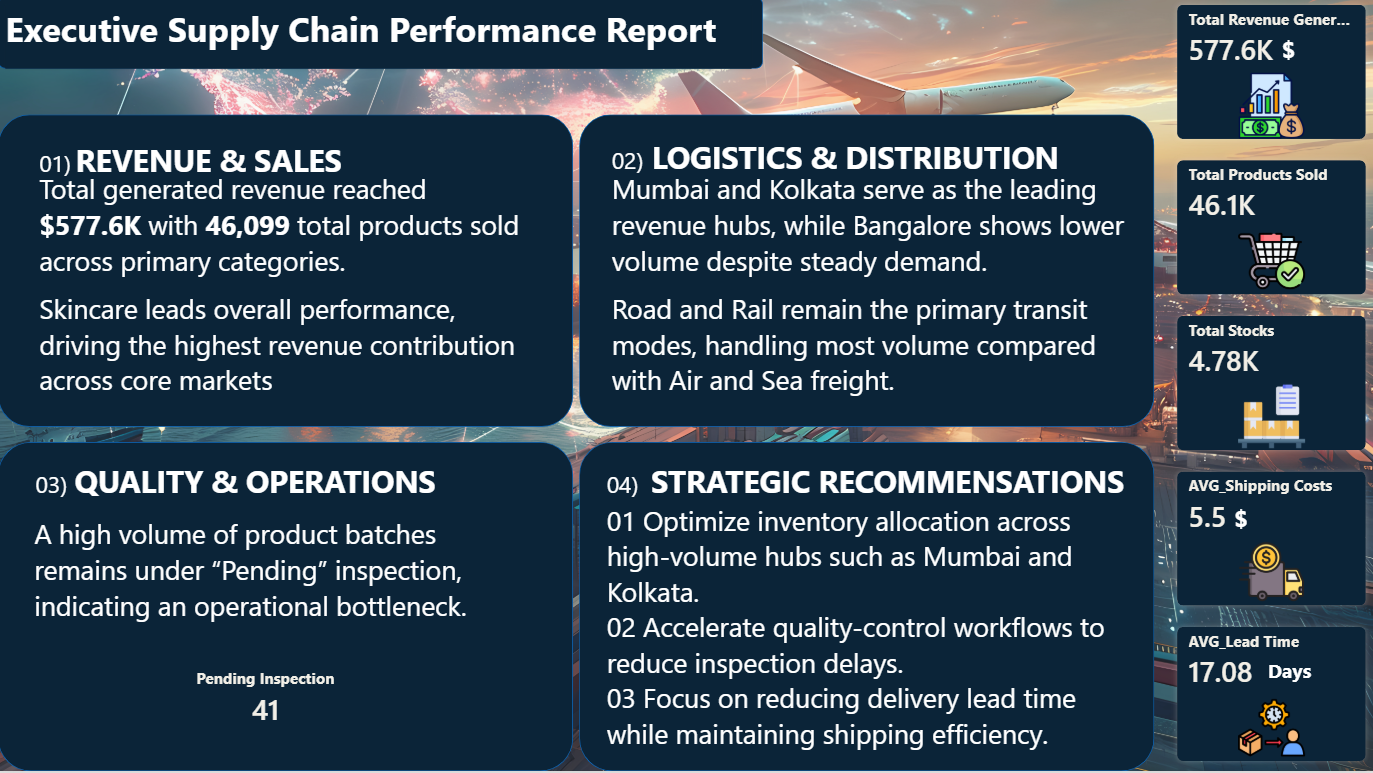

Layout of this report page (visuals, bound fields, positions):
{"tool":"powerbi","page":{"name":"Executive Summary","canvas":[1920,1080],"ordinal":3},"visuals":[{"type":"cardVisual","fields":{"Data":["Measuers.Total Revenue Generated","Measuers.Total Products Sold","Measuers.Total Stocks","Measuers.AVG_Shipping Costs","Measuers.AVG_Lead Time"]},"box":[1634.7,0,285.7,1081],"z":0},{"type":"shape","box":[0,164.3,802.4,435.7],"z":1000},{"type":"textbox","box":[57.1,197.6,435.7,73.8],"z":2000},{"type":"textbox","box":[57.1,242.9,688.1,357.1],"z":3000},{"type":"shape","box":[811.9,164.3,802.4,435.7],"z":4000},{"type":"textbox","box":[857.1,192.9,633.3,73.8],"z":5000},{"type":"textbox","box":[857.1,242.9,750,357.1],"z":6000},{"type":"shape","box":[0,621.4,802.4,459.5],"z":7000},{"type":"textbox","box":[52.4,645.2,569,100],"z":8000},{"type":"textbox","box":[50,723.8,695.2,254.8],"z":9000},{"type":"cardVisual","fields":{"Data":["Measuers.Pending Inspection"]},"box":[216.7,895.2,314.3,166.7],"z":10000},{"type":"shape","box":[811.9,621.4,802.4,459.5],"z":11000},{"type":"textbox","box":[850,645.2,728.6,116.7],"z":12000},{"type":"shape","box":[0,0,1067.3,100],"z":13000},{"type":"textbox","box":[850,704.8,728.6,357.1],"z":14000},{"type":"textbox","box":[10,10,1040.8,89.8],"z":15000},{"type":"textbox","box":[1791.8,51,65.3,75.5],"z":16000},{"type":"textbox","box":[1724.5,704.1,53.1,55.1],"z":17000},{"type":"textbox","box":[1771.4,920.4,106.1,75.5],"z":18000}]}

Visuals, with their boxes in screenshot pixels (x1, y1, x2, y2), scaled from the page's 1920x1080 canvas onto the 1373x773 screenshot:
cardVisual - Measuers.Total Revenue Generated x Measuers.Total Products Sold: x1=1169, y1=0, x2=1372, y2=772
shape: x1=0, y1=118, x2=574, y2=429
textbox: x1=41, y1=141, x2=352, y2=194
textbox: x1=41, y1=174, x2=533, y2=429
shape: x1=581, y1=118, x2=1154, y2=429
textbox: x1=613, y1=138, x2=1066, y2=191
textbox: x1=613, y1=174, x2=1149, y2=429
shape: x1=0, y1=445, x2=574, y2=772
textbox: x1=37, y1=462, x2=444, y2=533
textbox: x1=36, y1=518, x2=533, y2=700
cardVisual - Measuers.Pending Inspection: x1=155, y1=641, x2=380, y2=760
shape: x1=581, y1=445, x2=1154, y2=772
textbox: x1=608, y1=462, x2=1129, y2=545
shape: x1=0, y1=0, x2=763, y2=72
textbox: x1=608, y1=504, x2=1129, y2=760
textbox: x1=7, y1=7, x2=751, y2=71
textbox: x1=1281, y1=37, x2=1328, y2=91
textbox: x1=1233, y1=504, x2=1271, y2=543
textbox: x1=1267, y1=659, x2=1343, y2=713
